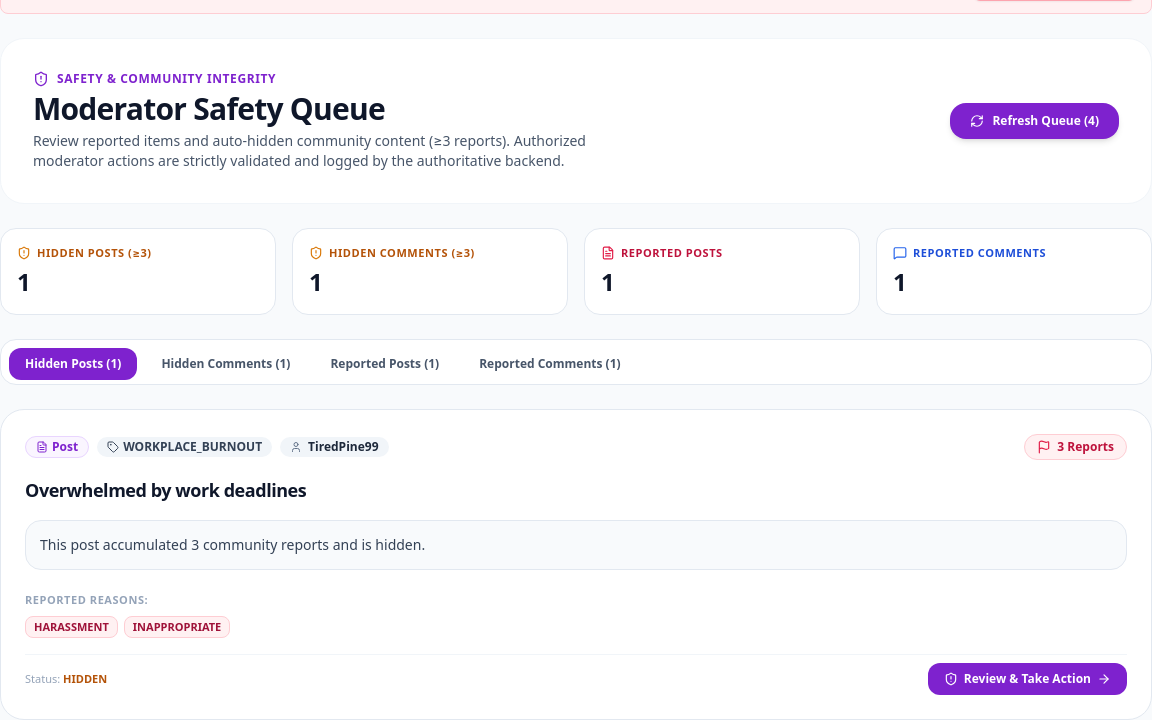
Test case: Moderation Queue & Authorized Actions Suite › executes authorized RESTORE action with mandatory reasoning and updates queue
(page scrolled)
# Open action dialog
Click the button with test id "take-action-btn-post-h-1" at (1027, 679), box [928,663,1127,695]
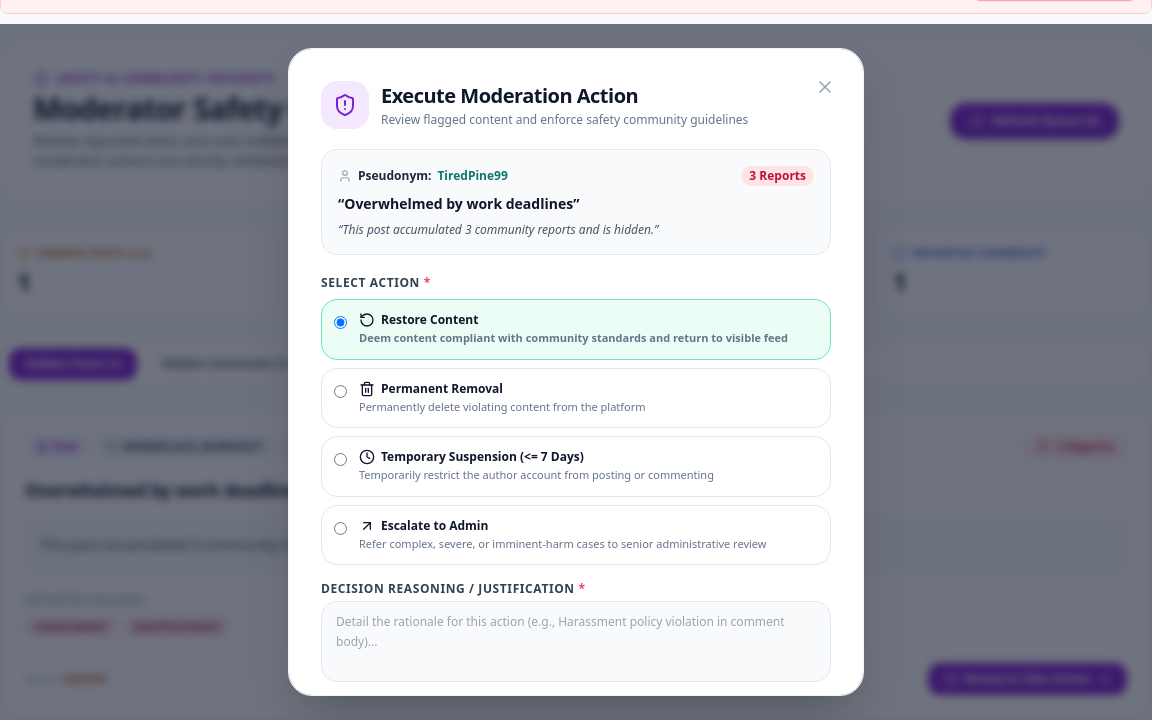
Expected: the dialog is shown
Expected: the heading "Execute Moderation Action" is shown, [381,82,638,109]
Expected: the text with test id "moderation-target-pseudonym" reads "TiredPine99", [437,167,508,184]
# Fill reasoning
Replace the text in the text box with test id "moderation-reasoning-input" with "Post does not violate guidelines; false reporting detected." at (576, 641), box [321,601,831,682]
(page scrolled)
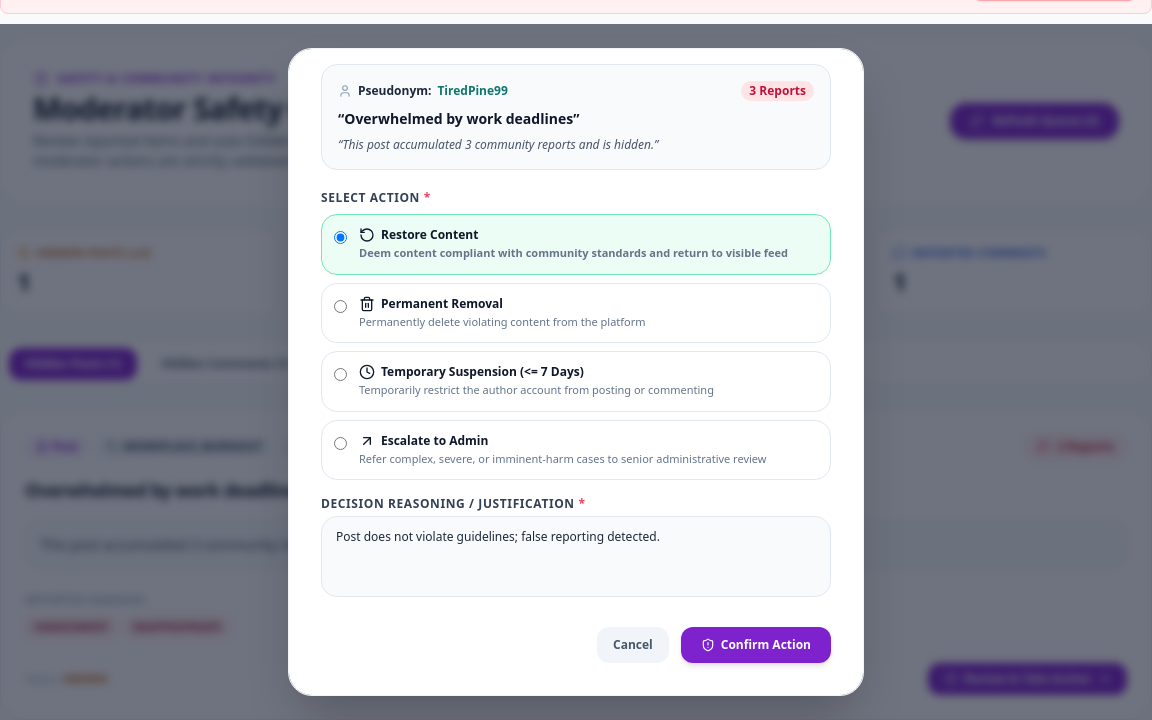
# Submit action
Click the button with test id "submit-moderation-action-btn" at (756, 644), box [681,626,831,662]
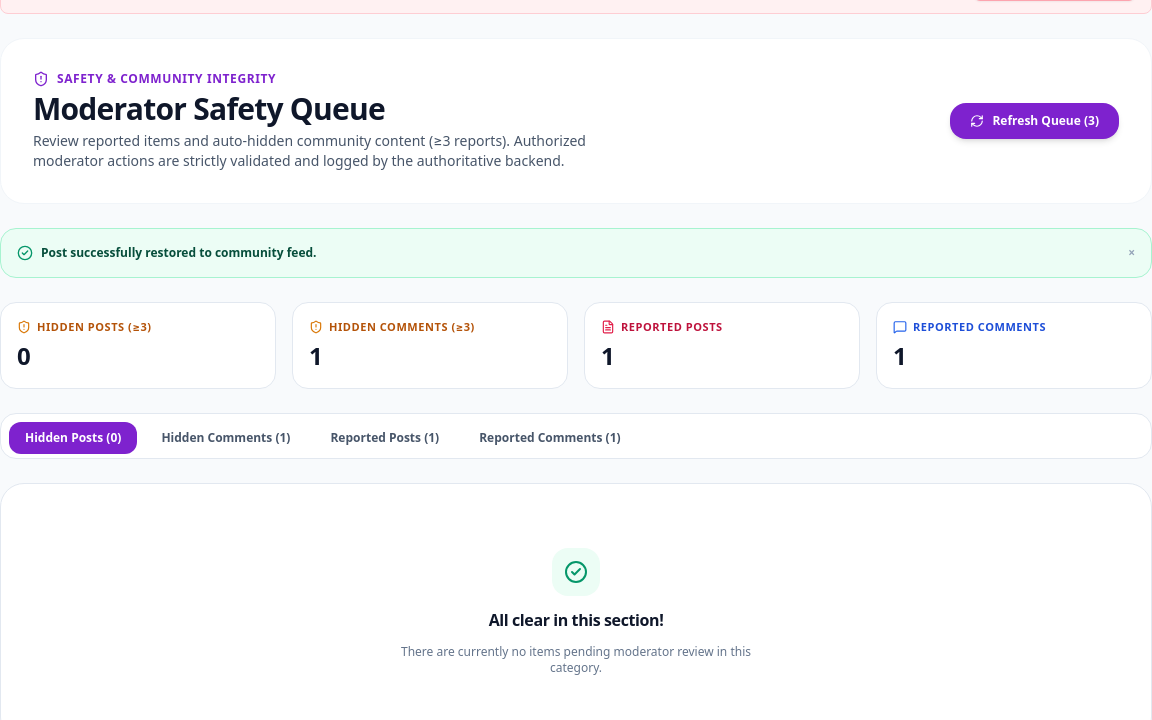
Expected: the text "Post successfully restored to community feed." is shown, [41,245,316,261]
Expected: the element with test id "moderation-item-post-h-1" is gone
